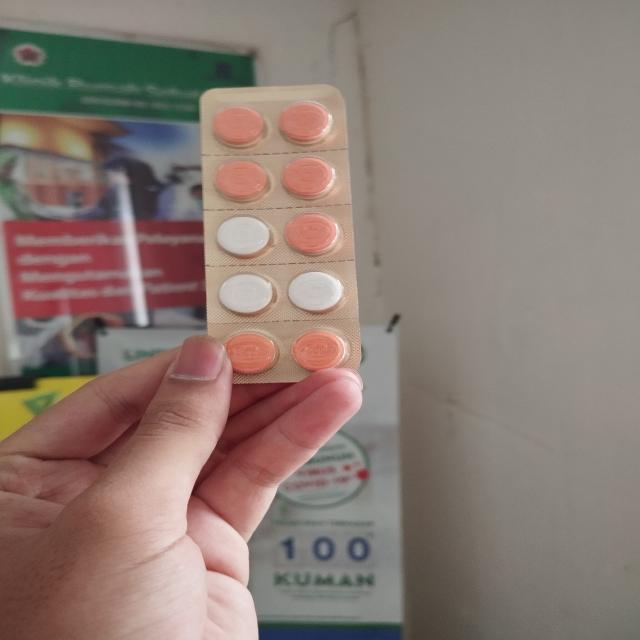B3: (200, 85, 361, 385)
